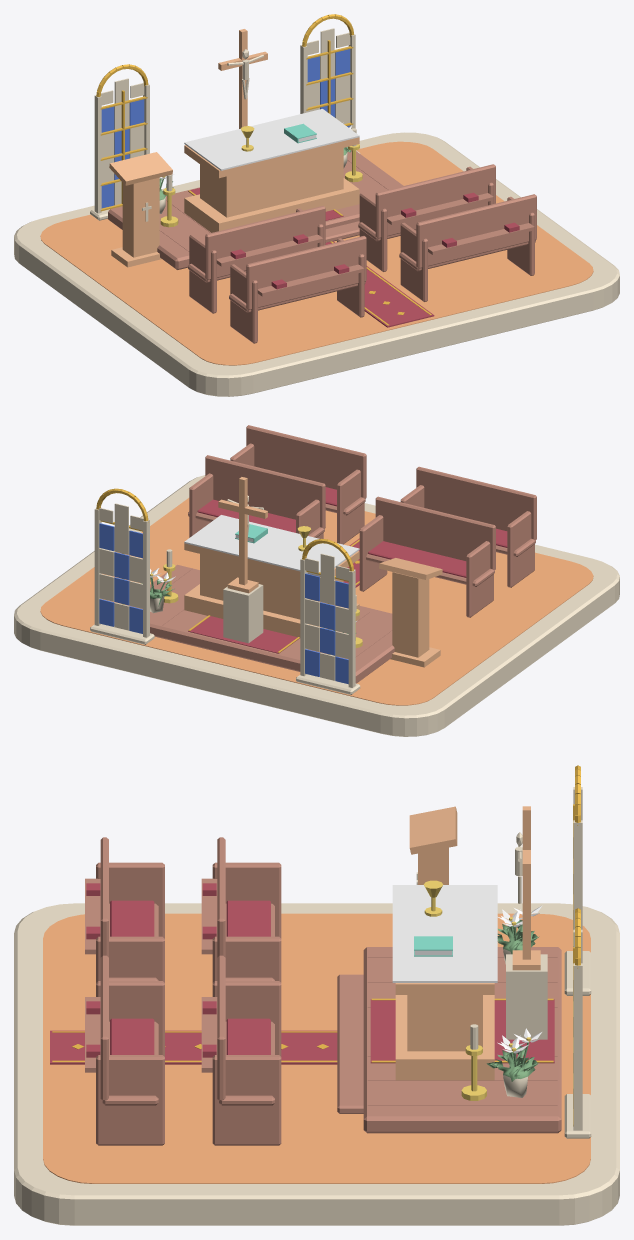
File: room.fbx
3 renders of one model, top to bottom at view 1: azimuth 30°, elevation 25°; view 2: azimuth 150°, elevation 25°; view 3: azimuth 270°, elevation 25°, orthographic. The views are drawn at different scales.
Visible parts, largest first — view 1: COM-02 Floor Surface, COM-01 Rounded Base Direct, Altar, Altar cloth, Back.002, Back.003, Sanctuary platform, Back, Back.001, Base, Body, Aisle runner (+17 smaller); view 2: COM-01 Rounded Base Direct, COM-02 Floor Surface, Sanctuary platform, Back, Back.002, Back.003, Back.001, Altar cloth, Altar, Body, Display plinth, Base (+22 smaller); view 3: COM-02 Floor Surface, COM-01 Rounded Base Direct, Sanctuary platform, Altar cloth, End panel.002, End panel.006, Aisle runner, Base, Altar, Entry step, Stage carpet, Display plinth (+30 smaller).
Part boxes in pixels (box(x1,y1,x2,y2)): COM-02 Floor Surface: box(40, 141, 593, 365); COM-01 Rounded Base Direct: box(14, 132, 619, 396); Altar: box(200, 148, 343, 217); Altar cloth: box(184, 109, 359, 170); Back.002: box(246, 236, 366, 310); Back.003: box(416, 194, 536, 268); Sanctuary platform: box(108, 150, 403, 269); Back: box(205, 206, 325, 280); Back.001: box(375, 164, 495, 238); Base: box(184, 178, 359, 232); Body: box(122, 177, 159, 257); Aisle runner: box(325, 241, 434, 327); COM-01 Rounded Base Direct: box(14, 475, 619, 736); COM-02 Floor Surface: box(40, 498, 593, 705); Sanctuary platform: box(125, 564, 394, 683); Back: box(375, 496, 495, 570); Back.002: box(416, 466, 536, 540); Back.003: box(246, 425, 366, 498); Back.001: box(205, 455, 325, 528); Altar cloth: box(184, 515, 359, 576); Altar: box(200, 554, 343, 619); Body: box(392, 572, 429, 657); Display plinth: box(223, 584, 263, 643); Base: box(184, 584, 359, 637); COM-02 Floor Surface: box(43, 913, 590, 1183); COM-01 Rounded Base Direct: box(14, 903, 619, 1225); Sanctuary platform: box(363, 947, 561, 1133); Altar cloth: box(392, 885, 497, 982); End panel.002: box(212, 1055, 281, 1145); End panel.006: box(96, 1055, 164, 1145); Aisle runner: box(50, 1030, 337, 1064); Base: box(395, 995, 494, 1080); Altar: box(407, 995, 482, 1051); Entry step: box(337, 974, 363, 1113); Stage carpet: box(370, 999, 554, 1063); Display plinth: box(506, 954, 547, 1039).
Bounding box in the file's own units: 600 × 257 × 520.
